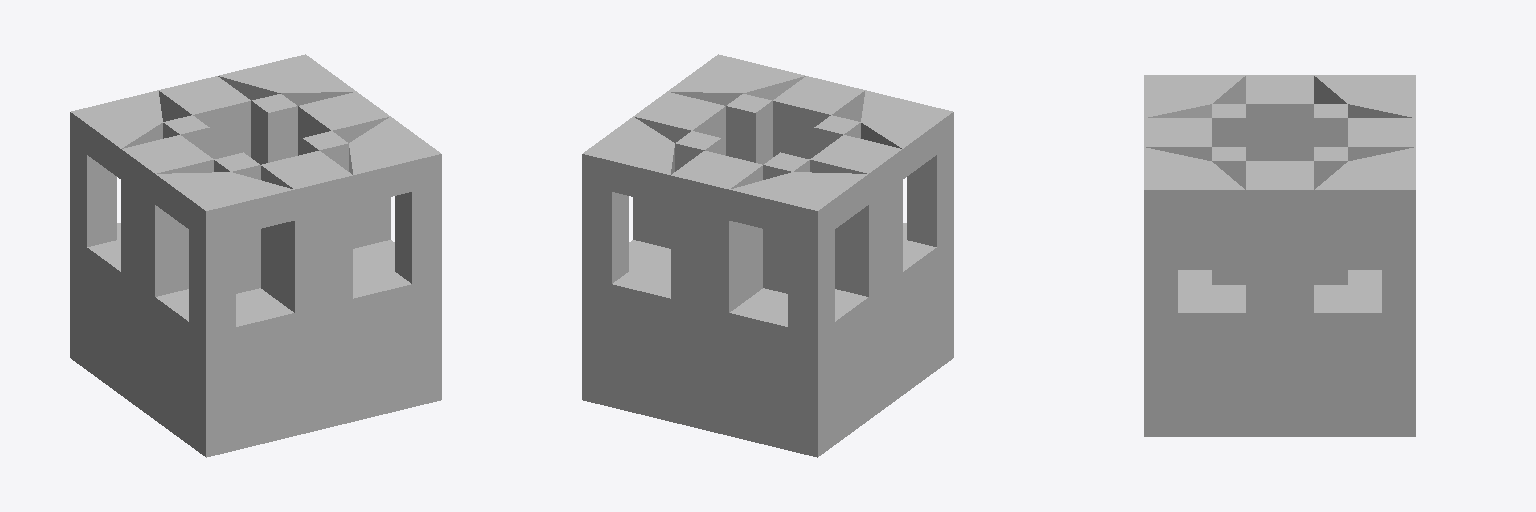
File: ChargingChamber.obj
3 renders of one model, left to right at view 1: azimuth 30°, elevation 25°; view 2: azimuth 150°, elevation 25°; view 3: azimuth 270°, elevation 25°, orthographic.
Parts seen in each view (by area): view 1: pCube1; view 2: pCube1; view 3: pCube1.
Boxes of the visible parts, x1,y1,x2,y2 form: pCube1: [70, 54, 441, 457]; pCube1: [582, 54, 953, 457]; pCube1: [1144, 75, 1415, 436].
Bounding box in the file's own units: 1 × 1 × 1.